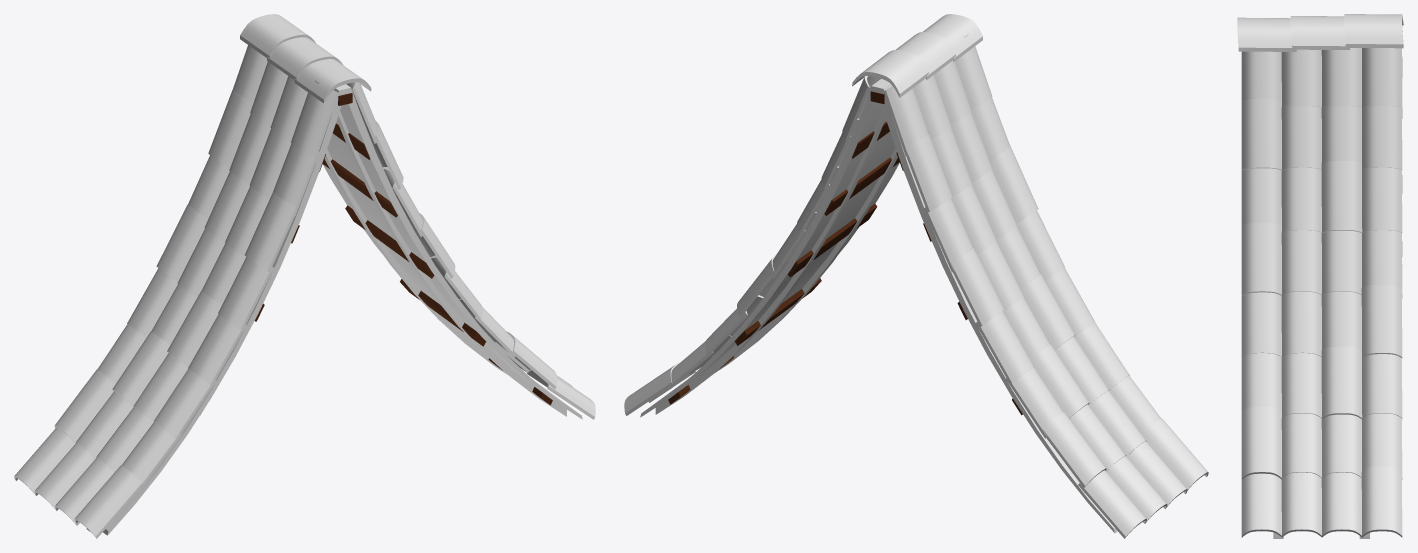
Rendered from S_Roof_NoFrame 1.fbx.
3 renders of one model, left to right at view 1: azimuth 30°, elevation 25°; view 2: azimuth 150°, elevation 25°; view 3: azimuth 270°, elevation 25°, orthographic.
Visible parts, largest first — view 1: Cube.012, S_Roof_NoFrame, Cube.018; view 2: Cube.012, S_Roof_NoFrame, Cube.018; view 3: Cube.012.
Boxes of the visible parts, left/top/right/bottom form: Cube.012: left=14, top=14, right=595, bottom=538; S_Roof_NoFrame: left=86, top=84, right=582, bottom=535; Cube.018: left=200, top=93, right=552, bottom=414; Cube.012: left=624, top=14, right=1208, bottom=538; S_Roof_NoFrame: left=640, top=79, right=1117, bottom=533; Cube.018: left=668, top=91, right=1022, bottom=415; Cube.012: left=1237, top=14, right=1403, bottom=537.
Bounding box in the file's own units: 772 × 593 × 220.
